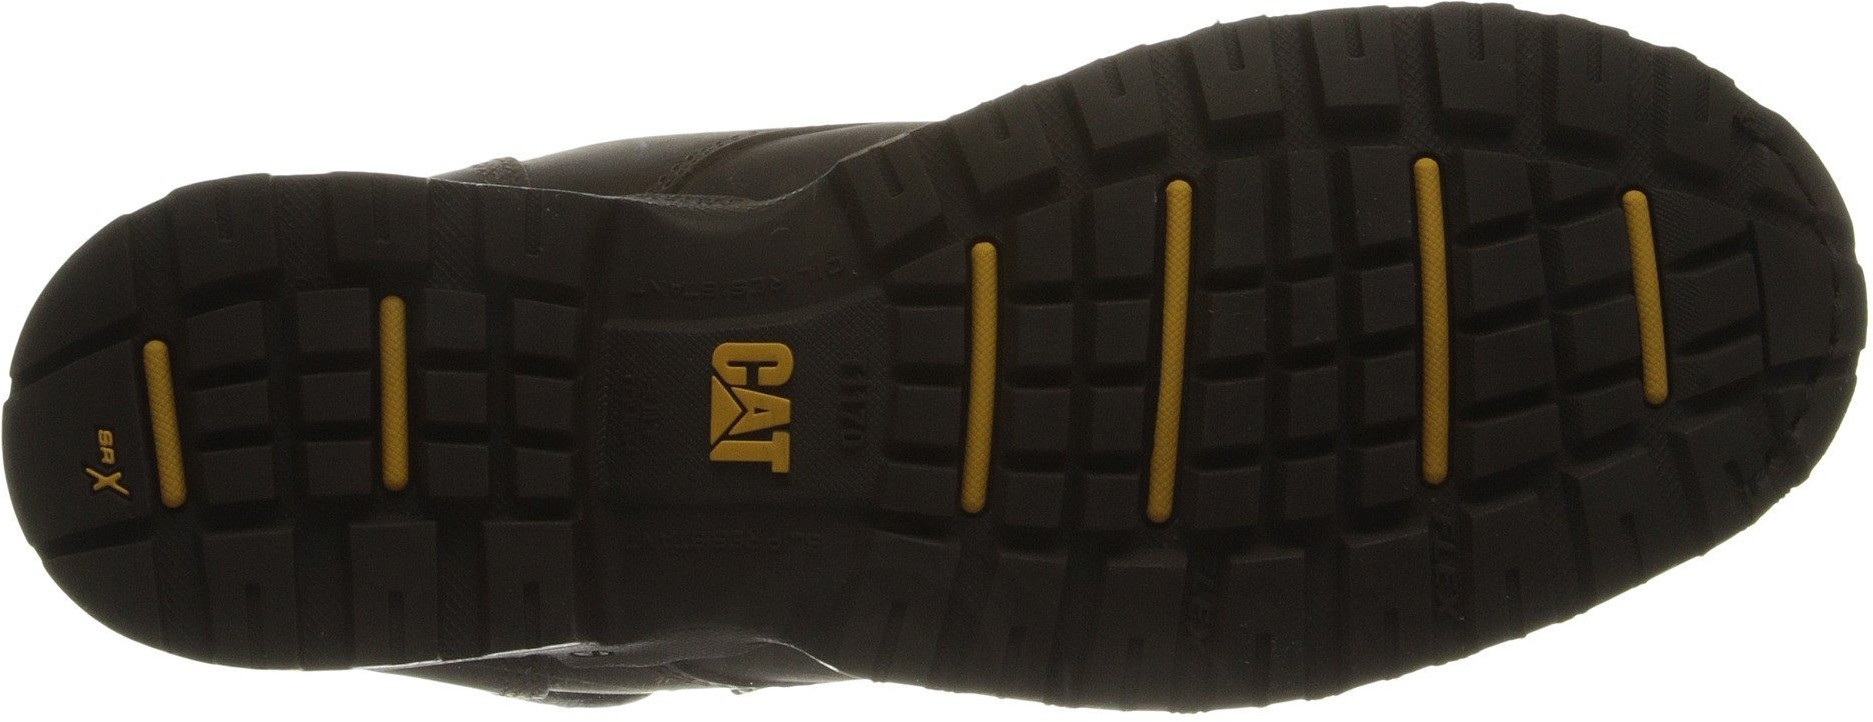quad: (1186, 283, 1418, 513), (172, 320, 380, 512), (1450, 316, 1642, 490), (1114, 546, 1285, 714), (409, 357, 571, 503), (995, 388, 1138, 532), (1218, 140, 1343, 268)
text: (678, 330, 819, 473), (606, 381, 670, 445), (827, 371, 880, 423)
